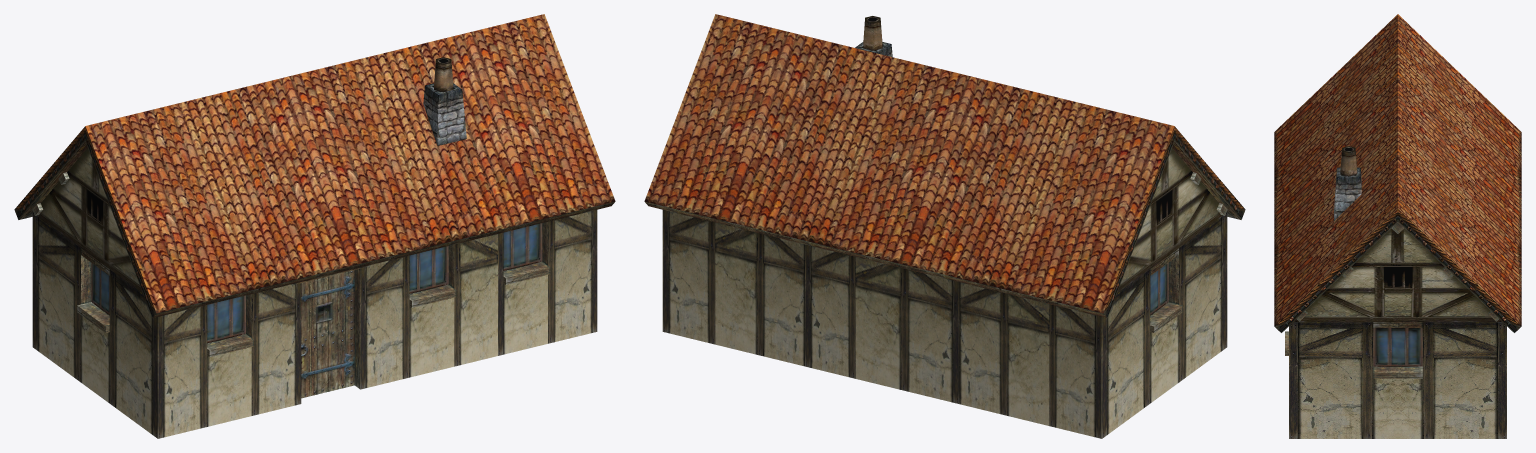
The model's file is S_home39.glb.
3 renders of one model, left to right at view 1: azimuth 30°, elevation 25°; view 2: azimuth 150°, elevation 25°; view 3: azimuth 270°, elevation 25°, orthographic. The views are drawn at different scales.
Parts seen in each view (by area): view 1: S_home39; view 2: S_home39; view 3: S_home39.
Boxes of the visible parts, bbox=[...] form: S_home39: bbox=[14, 14, 615, 438]; S_home39: bbox=[644, 14, 1245, 438]; S_home39: bbox=[1274, 14, 1521, 438].
Bounding box in the file's own units: 9.3 × 5.32 × 4.98.
9 materials, 9 textured.
